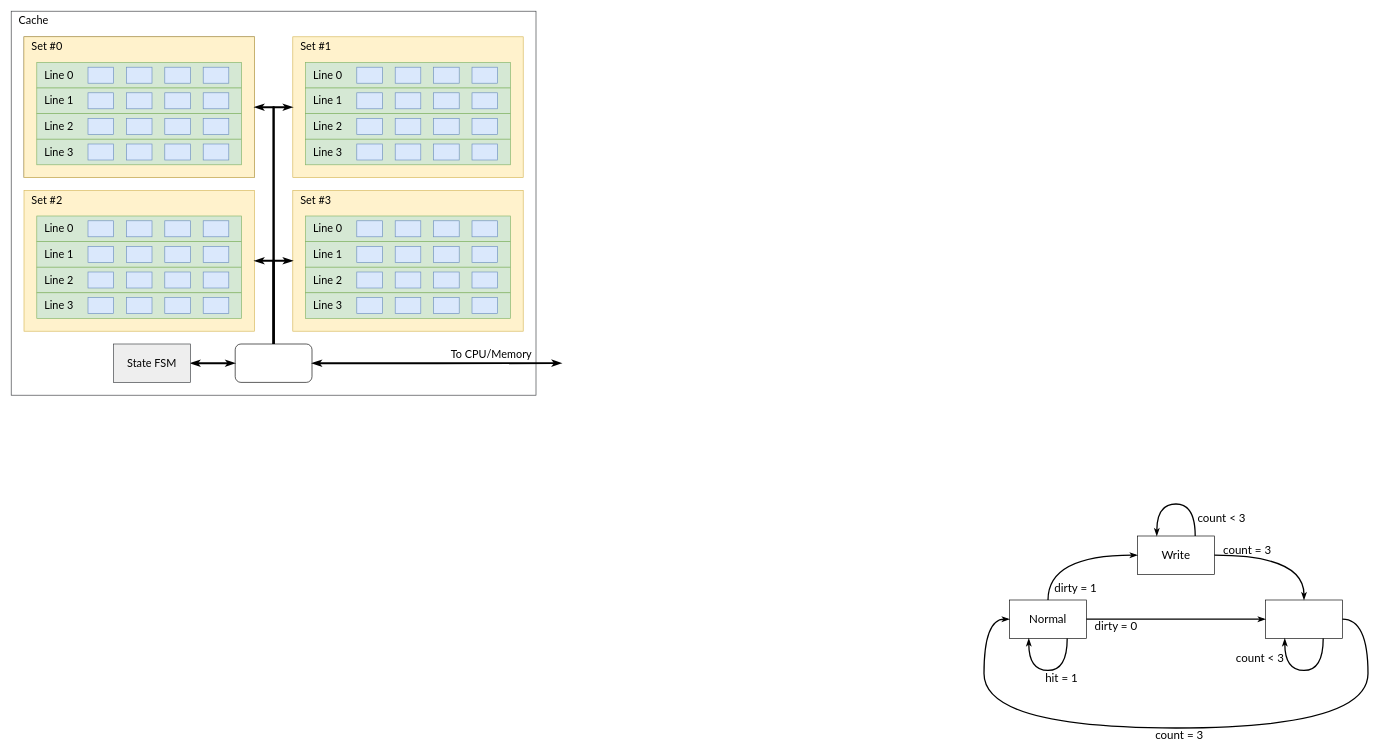
The diagram is 1380 pixels wide and 753 high, and some of its shapes have lost their labels. Here are the shapes that lost their labels. From the top down, the box of each, then its label:
(235, 343, 312, 382): Controller
(1265, 599, 1342, 638): Fetch
